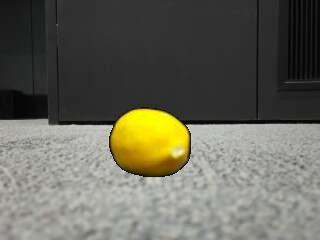lemon: (111, 109, 190, 176)
